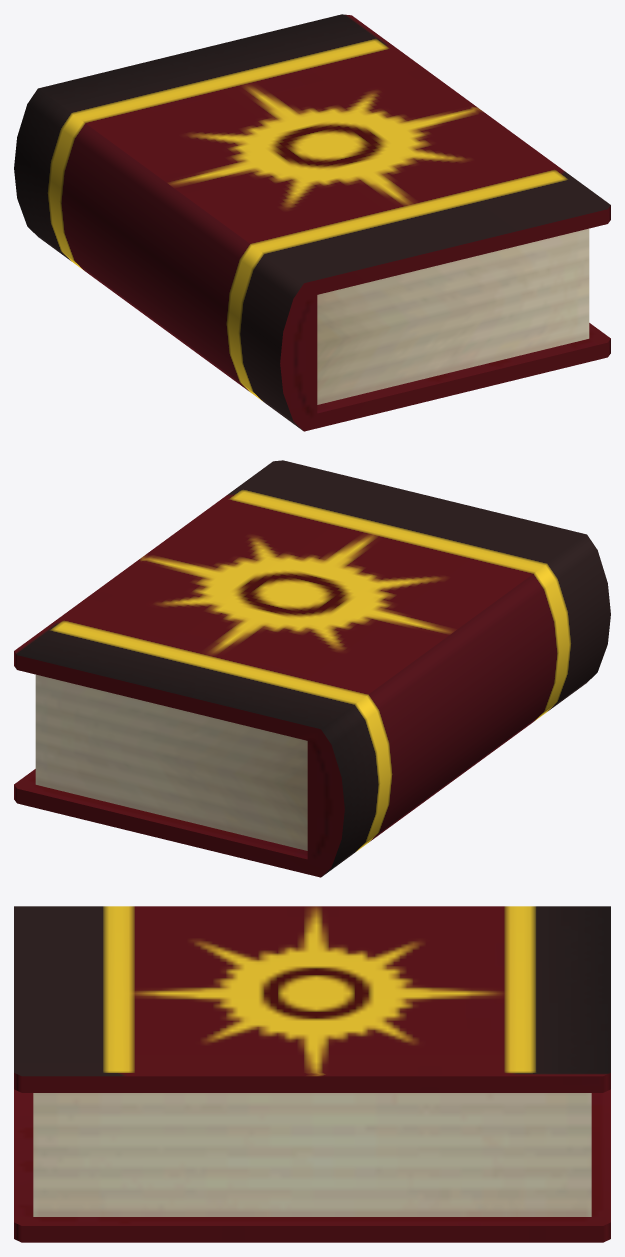
File: spellbook_2.fbx
3 views of the same model, one above another, from view 1: azimuth 30°, elevation 25°; view 2: azimuth 150°, elevation 25°; view 3: azimuth 270°, elevation 25° (orthographic). The views are drawn at different scales.
Parts seen in each view (by area): view 1: spellbook_2; view 2: spellbook_2; view 3: spellbook_2.
Part boxes in pixels (x1,y1,x2,y2): spellbook_2: [14, 14, 610, 431]; spellbook_2: [14, 460, 610, 877]; spellbook_2: [14, 906, 610, 1242].
Size of the model in its own units: 0.7144 by 0.3028 by 0.9849.
